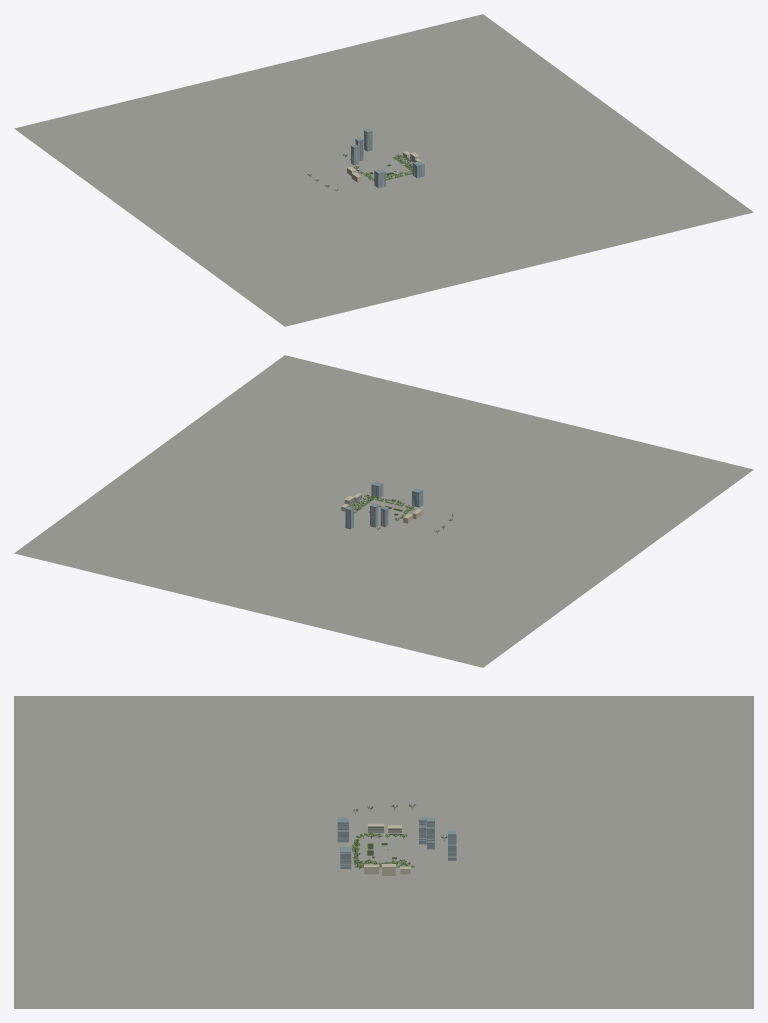
3 views of the same model, one above another, from view 1: azimuth 30°, elevation 25°; view 2: azimuth 150°, elevation 25°; view 3: azimuth 270°, elevation 25° (orthographic). The views are drawn at different scales.
Parts seen in each view (by area): view 1: object 4; view 2: object 4, object 5; view 3: object 4, object 5.
Boxes of the visible parts, box(x1,y1,x2,y2) form: object 4: box(14, 14, 753, 326); object 4: box(14, 355, 753, 667); object 5: box(341, 493, 422, 523); object 4: box(14, 696, 753, 1008); object 5: box(354, 823, 414, 875).
Bounding box in the file's own units: 1200 × 50 × 1200.
48 materials, 11 textured.
